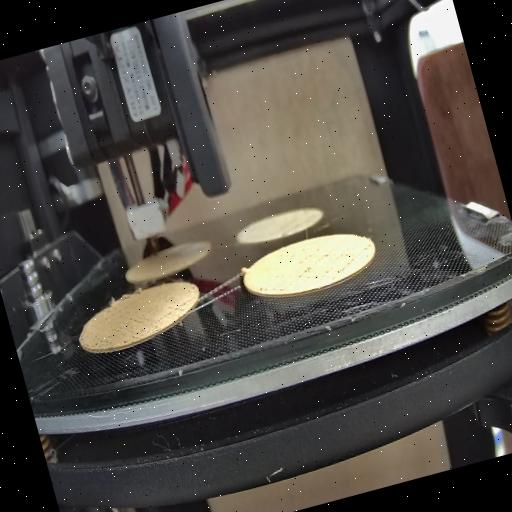under_extrusion: (292, 233, 356, 286), (89, 304, 151, 350), (156, 298, 193, 326), (256, 280, 284, 302)
